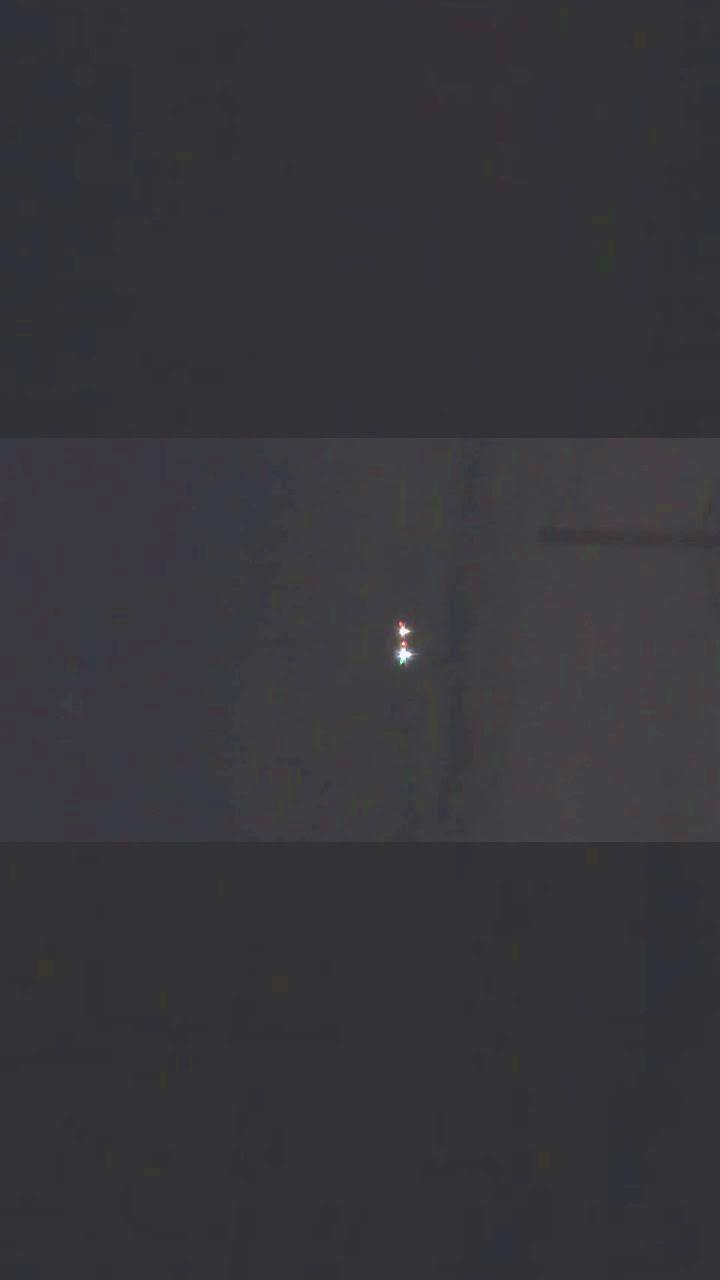Plane: (374, 586, 435, 692)
